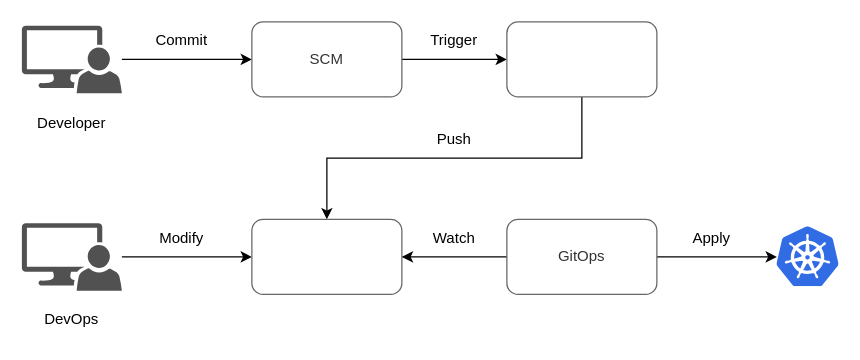
Image size: 860x360. Some labels were removed from this diagram. The shapes that lost their labels are listed below. From the top down, each one's centre as x and y in pixels, then its label:
At point 581,59: "CI".
At point 326,256: "Package Repository".
